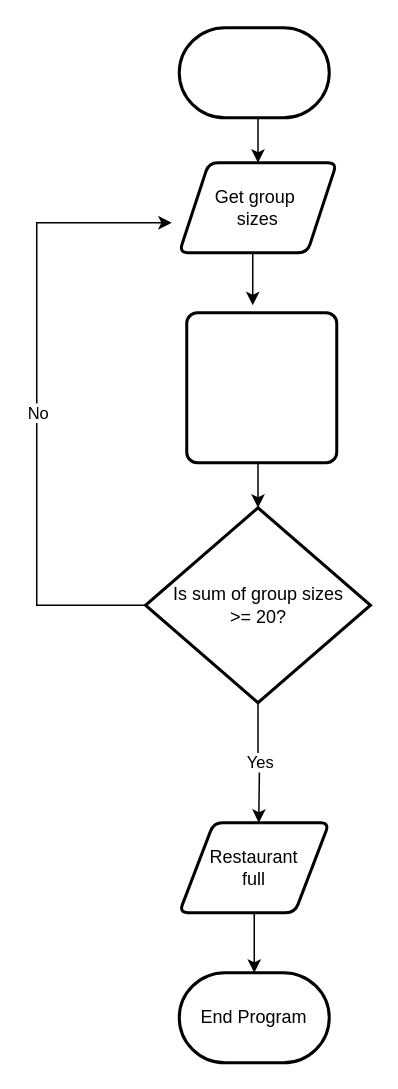
Some shapes in this 398 by 1089 pixel diagram are drawn without their labels. Each missing label, with the box of its shape:
Add/Sub group size from sum: (184, 310, 338, 464)
Start Program: (177, 26, 330, 118)
